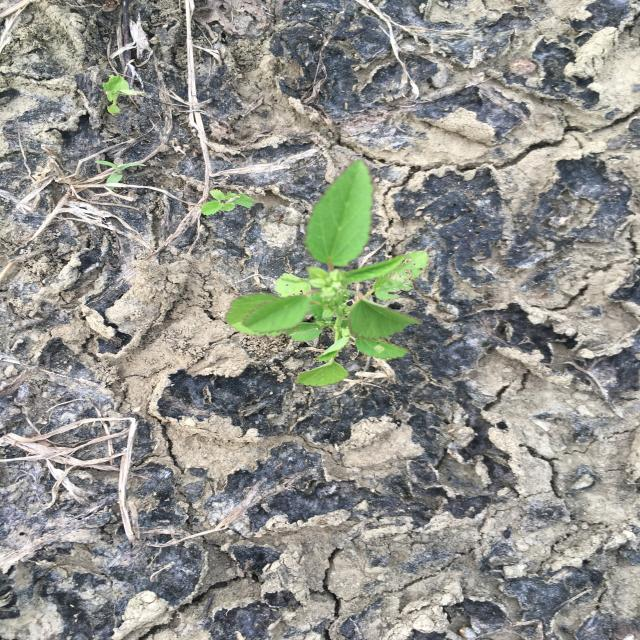PricklySida: (221, 157, 431, 388)
